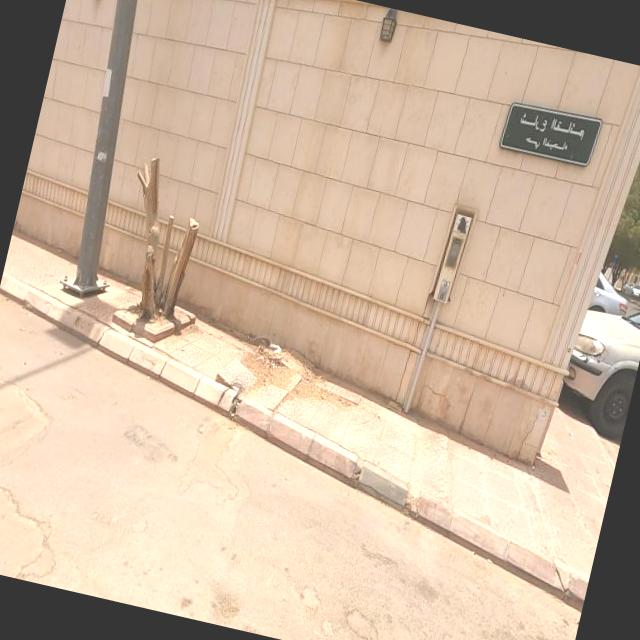debris: (232, 304, 310, 402)
